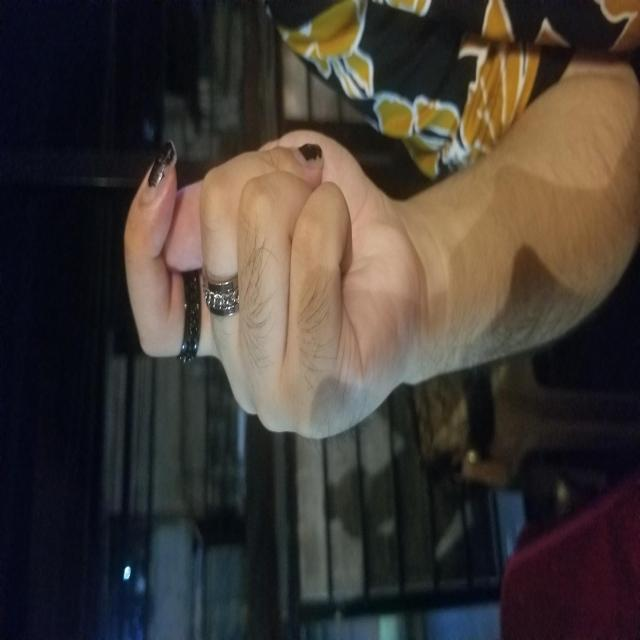T: (197, 128, 512, 408)
